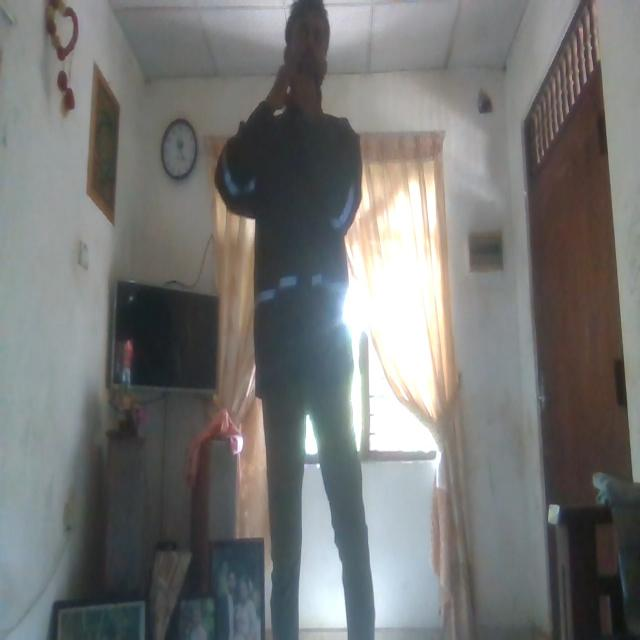Jacket_Wearer: (216, 110, 374, 380)
Person: (213, 2, 391, 640)
